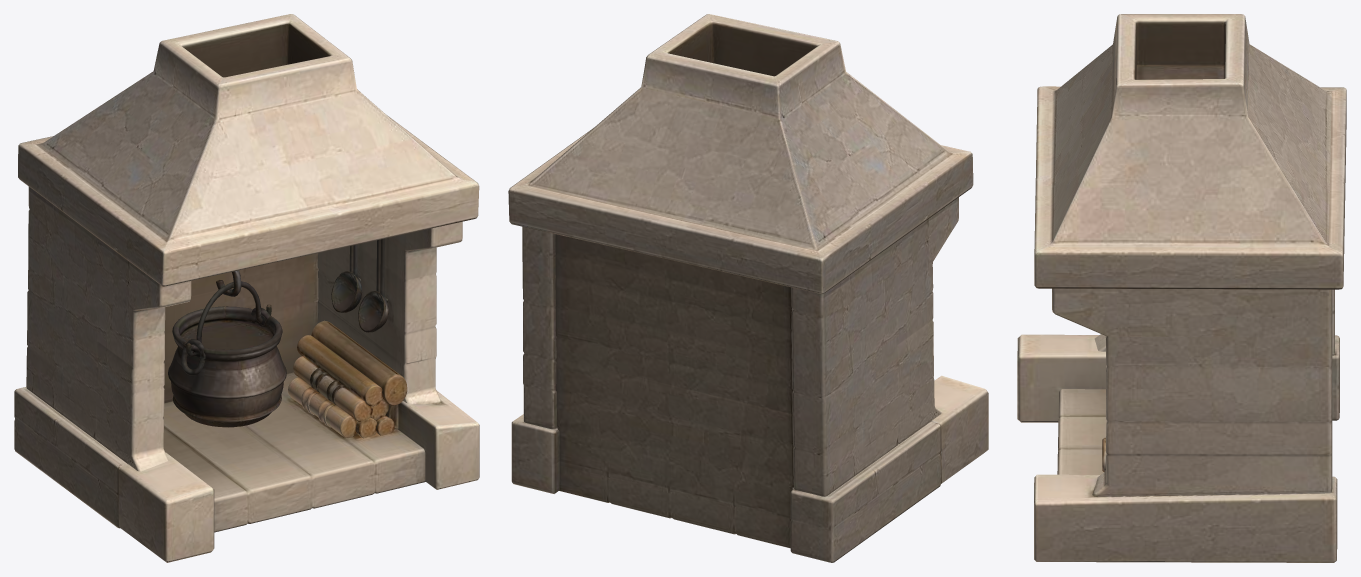
File: act1-a11-5-kitchen-hearth.glb
3 views of the same model, side by side, from view 1: azimuth 30°, elevation 25°; view 2: azimuth 150°, elevation 25°; view 3: azimuth 270°, elevation 25° (orthographic). The views are drawn at different scales.
Visible parts, largest first — view 1: act1-a11-5-kitchen-hearth; view 2: act1-a11-5-kitchen-hearth; view 3: act1-a11-5-kitchen-hearth.
Part boxes in pixels (<box>): act1-a11-5-kitchen-hearth: <box>14,14,479,562</box>; act1-a11-5-kitchen-hearth: <box>508,14,988,562</box>; act1-a11-5-kitchen-hearth: <box>1017,14,1346,562</box>.
Bounding box in the file's own units: 2.33 × 2.88 × 1.96.
Materials: 1 (1 with a texture image).
